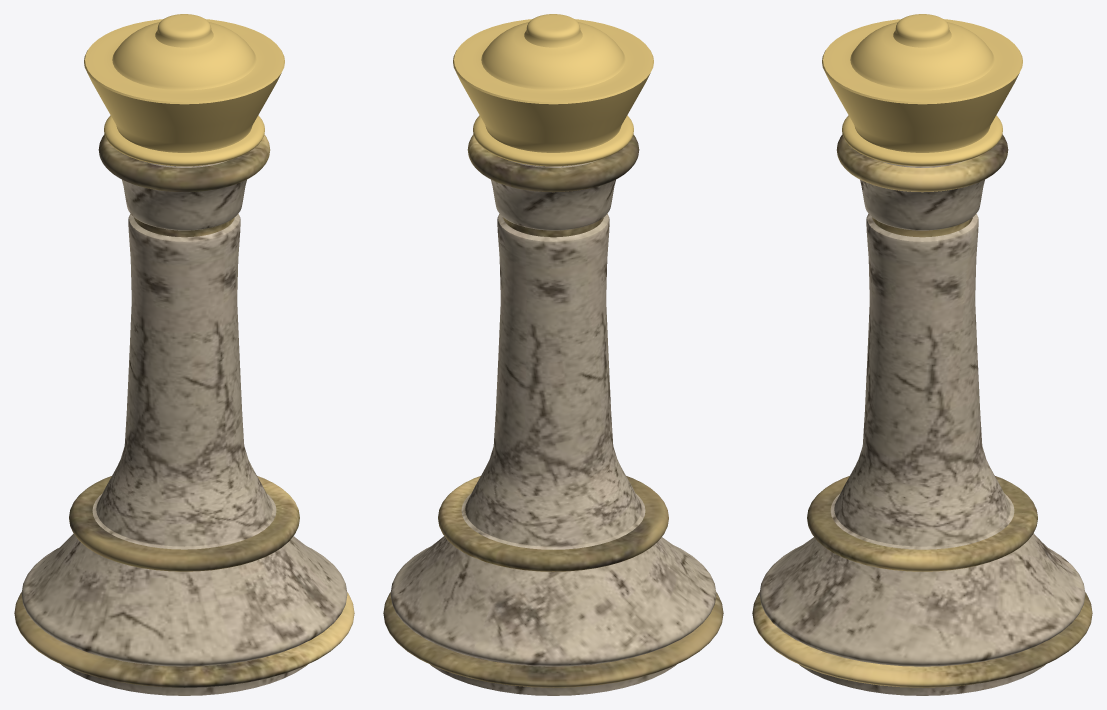
3 renders of one model, left to right at view 1: azimuth 30°, elevation 25°; view 2: azimuth 150°, elevation 25°; view 3: azimuth 270°, elevation 25°, orthographic.
Visible parts, largest first — view 1: x; view 2: x; view 3: x.
Boxes of the visible parts, <box> form: x: <box>14,14,354,695</box>; x: <box>383,14,723,695</box>; x: <box>752,14,1092,695</box>.
Bounding box in the file's own units: 0.4512 × 0.9 × 0.4512.
2 materials, 1 textured.
